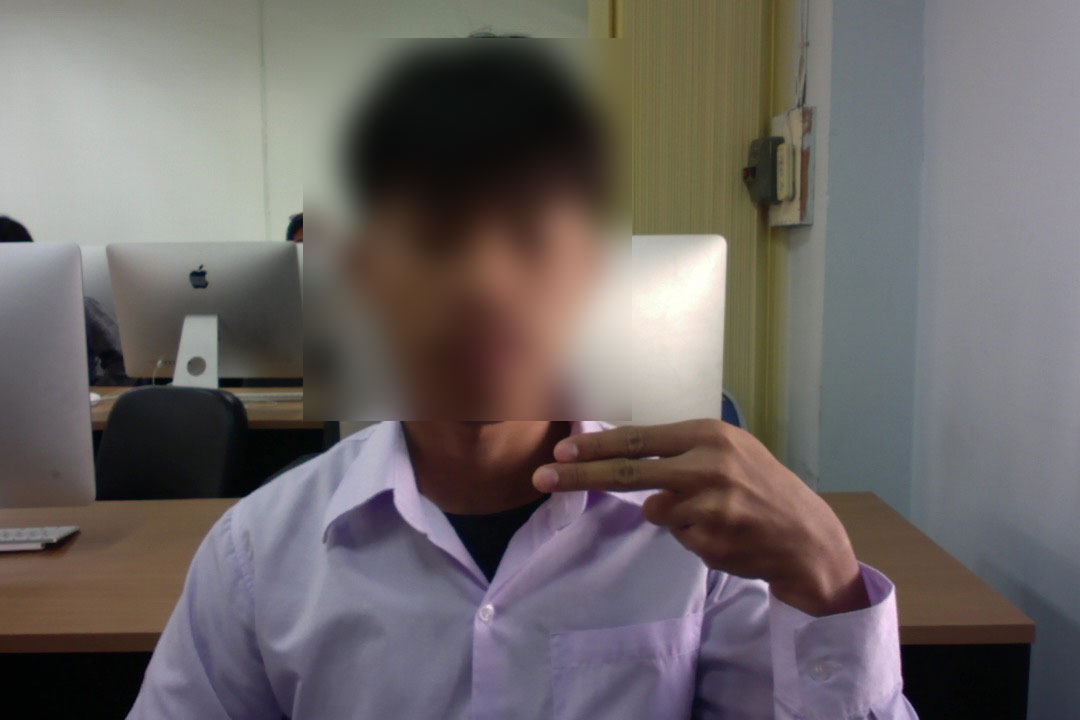hor: (518, 401, 864, 589)
